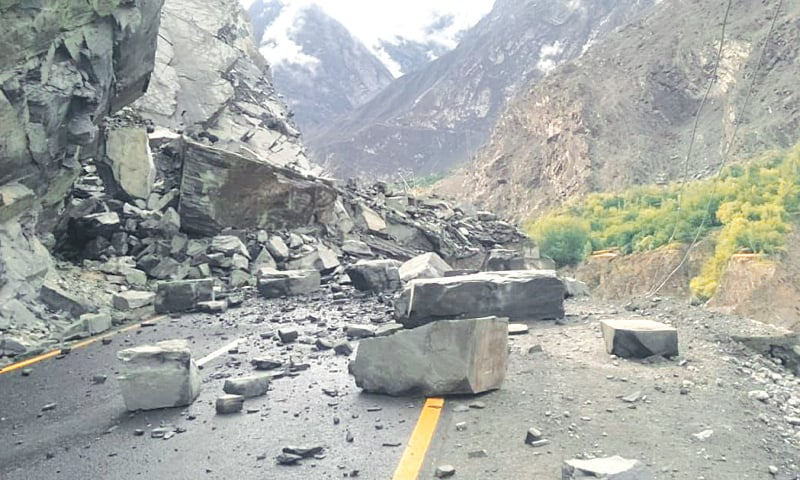landSliding: (20, 63, 707, 432)
